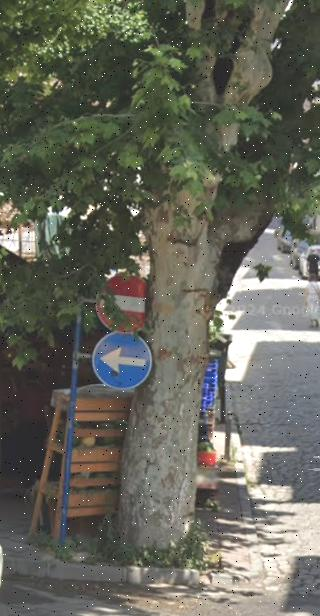leftturnsareforbidden: (95, 329, 150, 388)
